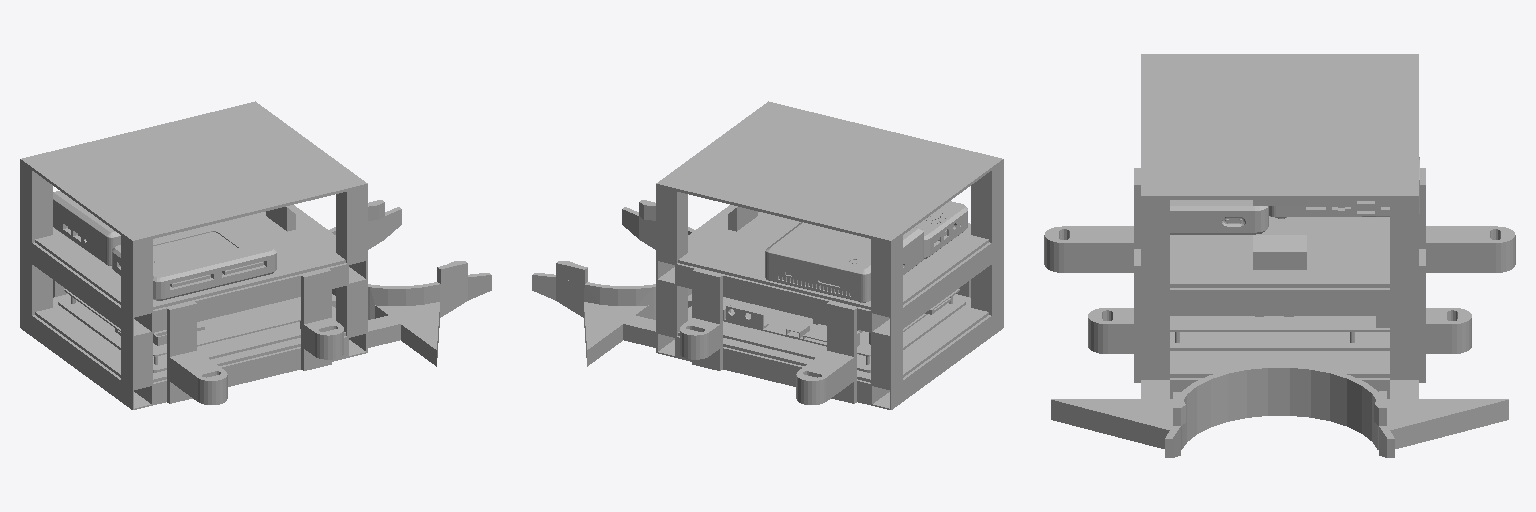
The robot description file, URDF, robot "lide":
<?xml version="1.0" encoding="utf-8"?>
<!-- This URDF was automatically created by SolidWorks to URDF Exporter! Originally created by [author] ([email redacted]) 
     Commit Version: 1.5.1-0-g916b5db  Build Version: 1.5.7152.31018
     For more information, please see http://wiki.ros.org/sw_urdf_exporter -->
<robot
  name="lide">
  <link
    name="base_link">
    <inertial>
      <origin
        xyz="-0.127081399874902 0.0848949775103112 0.0504012116184375"
        rpy="0 0 0" />
      <mass
        value="2.93234854916097" />
      <inertia
        ixx="0.00626578008089889"
        ixy="-9.62622079182327E-07"
        ixz="-2.52774583257753E-05"
        iyy="0.00556701344036708"
        iyz="-5.89340291403019E-07"
        izz="0.0111607875621423" />
    </inertial>
    <visual>
      <origin
        xyz="0 0 0"
        rpy="0 0 0" />
      <geometry>
        <mesh
          filename="package://lide/meshes/base_link.STL" />
      </geometry>
      <material
        name="">
        <color
          rgba="0.752941176470588 0.752941176470588 0.752941176470588 1" />
      </material>
    </visual>
    <collision>
      <origin
        xyz="0 0 0"
        rpy="0 0 0" />
      <geometry>
        <mesh
          filename="package://lide/meshes/base_link.STL" />
      </geometry>
    </collision>
  </link>
  <link
    name="LFS">
    <inertial>
      <origin
        xyz="0.0455604268709419 0.00830943309140332 0.00297622851896683"
        rpy="0 0 0" />
      <mass
        value="0.0727928435161985" />
      <inertia
        ixx="2.20927876796312E-05"
        ixy="-1.648453020563E-08"
        ixz="-1.56454773175219E-07"
        iyy="1.62632133784213E-05"
        iyz="2.96411876511229E-09"
        izz="1.80843397531752E-05" />
    </inertial>
    <visual>
      <origin
        xyz="0 0 0"
        rpy="0 0 0" />
      <geometry>
        <mesh
          filename="package://lide/meshes/LFS.STL" />
      </geometry>
      <material
        name="">
        <color
          rgba="0.752941176470588 0.752941176470588 0.752941176470588 1" />
      </material>
    </visual>
    <collision>
      <origin
        xyz="0 0 0"
        rpy="0 0 0" />
      <geometry>
        <mesh
          filename="package://lide/meshes/LFS.STL" />
      </geometry>
    </collision>
  </link>
  <joint
    name="LFS"
    type="fixed">
    <origin
      xyz="-0.059044 0.1674 -0.036503"
      rpy="1.5708 0 1.5708" />
    <parent
      link="base_link" />
    <child
      link="LFS" />
    <axis
      xyz="0 0 0" />
  </joint>
  <link
    name="LFW">
    <inertial>
      <origin
        xyz="0.015 -6.93889390390723E-18 0"
        rpy="0 0 0" />
      <mass
        value="0.767080911081153" />
      <inertia
        ixx="0.00116426102407189"
        ixy="-1.25105048588131E-22"
        ixz="-1.83311841364852E-20"
        iyy="0.000639661580367031"
        iyz="-6.7762635780344E-21"
        izz="0.000639661580367032" />
    </inertial>
    <visual>
      <origin
        xyz="0 0 0"
        rpy="0 0 0" />
      <geometry>
        <mesh
          filename="package://lide/meshes/LFW.STL" />
      </geometry>
      <material
        name="">
        <color
          rgba="0.898039215686275 0.917647058823529 0.929411764705882 1" />
      </material>
    </visual>
    <collision>
      <origin
        xyz="0 0 0"
        rpy="0 0 0" />
      <geometry>
        <mesh
          filename="package://lide/meshes/LFW.STL" />
      </geometry>
    </collision>
  </link>
  <joint
    name="LFW"
    type="continuous">
    <origin
      xyz="0.063346 -0.006798 0.015044"
      rpy="-1.6264 0 0" />
    <parent
      link="LFS" />
    <child
      link="LFW" />
    <axis
      xyz="1 0 0" />
    <limit
      effort="3.1"
      velocity="7" />
  </joint>
  <link
    name="RFS">
    <inertial>
      <origin
        xyz="-0.0191828308457407 -0.00900932874707057 0.0520056318885905"
        rpy="0 0 0" />
      <mass
        value="0.0727928435161986" />
      <inertia
        ixx="2.20927876796313E-05"
        ixy="-1.64845302056308E-08"
        ixz="1.56454773175212E-07"
        iyy="1.62632133784213E-05"
        iyz="-2.96411876510575E-09"
        izz="1.80843397531752E-05" />
    </inertial>
    <visual>
      <origin
        xyz="0 0 0"
        rpy="0 0 0" />
      <geometry>
        <mesh
          filename="package://lide/meshes/RFS.STL" />
      </geometry>
      <material
        name="">
        <color
          rgba="0.752941176470588 0.752941176470588 0.752941176470588 1" />
      </material>
    </visual>
    <collision>
      <origin
        xyz="0 0 0"
        rpy="0 0 0" />
      <geometry>
        <mesh
          filename="package://lide/meshes/RFS.STL" />
      </geometry>
    </collision>
  </link>
  <joint
    name="RFS"
    type="fixed">
    <origin
      xyz="-0.10807 -0.027781 -0.019216"
      rpy="1.5708 0 1.5708" />
    <parent
      link="base_link" />
    <child
      link="RFS" />
    <axis
      xyz="0 0 0" />
  </joint>
  <link
    name="RFW">
    <inertial>
      <origin
        xyz="-0.015 0 0"
        rpy="0 0 0" />
      <mass
        value="0.767080911081152" />
      <inertia
        ixx="0.00116426102407189"
        ixy="-4.9281223125782E-37"
        ixz="4.60638074444741E-39"
        iyy="0.000639661580367031"
        iyz="-5.25031148738029E-37"
        izz="0.000639661580367031" />
    </inertial>
    <visual>
      <origin
        xyz="0 0 0"
        rpy="0 0 0" />
      <geometry>
        <mesh
          filename="package://lide/meshes/RFW.STL" />
      </geometry>
      <material
        name="">
        <color
          rgba="0.898039215686275 0.917647058823529 0.929411764705882 1" />
      </material>
    </visual>
    <collision>
      <origin
        xyz="0 0 0"
        rpy="0 0 0" />
      <geometry>
        <mesh
          filename="package://lide/meshes/RFW.STL" />
      </geometry>
    </collision>
  </link>
  <joint
    name="RFW"
    type="continuous">
    <origin
      xyz="-0.036969 -0.024084 0.064073"
      rpy="0 0 0" />
    <parent
      link="RFS" />
    <child
      link="RFW" />
    <axis
      xyz="1 0 0" />
    <limit
      effort="3.1"
      velocity="7" />
  </joint>
  <link
    name="LBS">
    <inertial>
      <origin
        xyz="-4.79882522608222E-10 -0.023473389822872 -1.16815018769145E-09"
        rpy="0 0 0" />
      <mass
        value="0.0835358720814331" />
      <inertia
        ixx="7.72968060896302E-05"
        ixy="-8.60478095934615E-13"
        ixz="1.40586689563478E-13"
        iyy="5.13820931926884E-05"
        iyz="-5.06559896296284E-12"
        izz="7.73952626484255E-05" />
    </inertial>
    <visual>
      <origin
        xyz="0 0 0"
        rpy="0 0 0" />
      <geometry>
        <mesh
          filename="package://lide/meshes/LBS.STL" />
      </geometry>
      <material
        name="">
        <color
          rgba="0.898039215686275 0.917647058823529 0.929411764705882 1" />
      </material>
    </visual>
    <collision>
      <origin
        xyz="0 0 0"
        rpy="0 0 0" />
      <geometry>
        <mesh
          filename="package://lide/meshes/LBS.STL" />
      </geometry>
    </collision>
  </link>
  <joint
    name="LBS"
    type="fixed">
    <origin
      xyz="-0.202 0.24575 -0.012562"
      rpy="1.5708 0 1.5708" />
    <parent
      link="base_link" />
    <child
      link="LBS" />
    <axis
      xyz="0 0 0" />
  </joint>
  <link
    name="LBW">
    <inertial>
      <origin
        xyz="0 0 -2.77555756156289E-17"
        rpy="0 0 0" />
      <mass
        value="0.299097213540614" />
      <inertia
        ixx="0.000107128427988291"
        ixy="-7.7154576721694E-22"
        ixz="-6.56176679301773E-22"
        iyy="0.000109833959413418"
        iyz="-8.63231614238912E-20"
        izz="0.000107128427988291" />
    </inertial>
    <visual>
      <origin
        xyz="0 0 0"
        rpy="0 0 0" />
      <geometry>
        <mesh
          filename="package://lide/meshes/LBW.STL" />
      </geometry>
      <material
        name="">
        <color
          rgba="0.898039215686275 0.917647058823529 0.929411764705882 1" />
      </material>
    </visual>
    <collision>
      <origin
        xyz="0 0 0"
        rpy="0 0 0" />
      <geometry>
        <mesh
          filename="package://lide/meshes/LBW.STL" />
      </geometry>
    </collision>
  </link>
  <joint
    name="LBW"
    type="fixed">
    <origin
      xyz="0 -0.055738 0"
      rpy="3.1416 0 1.5708" />
    <parent
      link="LBS" />
    <child
      link="LBW" />
    <axis
      xyz="0 1 0" />
  </joint>
  <link
    name="RBS">
    <inertial>
      <origin
        xyz="-4.79882536486009E-10 -0.0234733898228721 -1.16815015993588E-09"
        rpy="0 0 0" />
      <mass
        value="0.0835358720814328" />
      <inertia
        ixx="7.72968060896302E-05"
        ixy="-8.60478108763694E-13"
        ixz="1.40586703370834E-13"
        iyy="5.13820931926882E-05"
        iyz="-5.06559895620794E-12"
        izz="7.73952626484254E-05" />
    </inertial>
    <visual>
      <origin
        xyz="0 0 0"
        rpy="0 0 0" />
      <geometry>
        <mesh
          filename="package://lide/meshes/RBS.STL" />
      </geometry>
      <material
        name="">
        <color
          rgba="0.898039215686275 0.917647058823529 0.929411764705882 1" />
      </material>
    </visual>
    <collision>
      <origin
        xyz="0 0 0"
        rpy="0 0 0" />
      <geometry>
        <mesh
          filename="package://lide/meshes/RBS.STL" />
      </geometry>
    </collision>
  </link>
  <joint
    name="RBS"
    type="fixed">
    <origin
      xyz="-0.202 -0.07975 -0.012562"
      rpy="1.5708 0 1.5708" />
    <parent
      link="base_link" />
    <child
      link="RBS" />
    <axis
      xyz="0 0 0" />
  </joint>
  <link
    name="RBW">
    <inertial>
      <origin
        xyz="-6.93889390390723E-18 -6.93889390390723E-18 0"
        rpy="0 0 0" />
      <mass
        value="0.299097213540614" />
      <inertia
        ixx="0.000107128427988291"
        ixy="1.42968110446033E-21"
        ixz="-2.66815378385127E-22"
        iyy="0.000109833959413418"
        iyz="-8.63398373850403E-20"
        izz="0.000107128427988291" />
    </inertial>
    <visual>
      <origin
        xyz="0 0 0"
        rpy="0 0 0" />
      <geometry>
        <mesh
          filename="package://lide/meshes/RBW.STL" />
      </geometry>
      <material
        name="">
        <color
          rgba="0.898039215686275 0.917647058823529 0.929411764705882 1" />
      </material>
    </visual>
    <collision>
      <origin
        xyz="0 0 0"
        rpy="0 0 0" />
      <geometry>
        <mesh
          filename="package://lide/meshes/RBW.STL" />
      </geometry>
    </collision>
  </link>
  <joint
    name="RBW"
    type="fixed">
    <origin
      xyz="0 -0.055738 0"
      rpy="0 0 -1.5708" />
    <parent
      link="RBS" />
    <child
      link="RBW" />
    <axis
      xyz="0 1 0" />
  </joint>
  <link
    name="fcam">
    <inertial>
      <origin
        xyz="-0.0115544746517359 -2.64429642850283E-06 0.00129029302682174"
        rpy="0 0 0" />
      <mass
        value="0.0436119957238952" />
      <inertia
        ixx="2.35707061906175E-05"
        ixy="-1.01842273865689E-09"
        ixz="2.17585832536658E-08"
        iyy="4.29479050056035E-06"
        iyz="-8.85018118759991E-10"
        izz="2.21058153511886E-05" />
    </inertial>
    <visual>
      <origin
        xyz="0 0 0"
        rpy="0 0 0" />
      <geometry>
        <mesh
          filename="package://lide/meshes/fcam.STL" />
      </geometry>
      <material
        name="">
        <color
          rgba="0.792156862745098 0.819607843137255 0.933333333333333 1" />
      </material>
    </visual>
    <collision>
      <origin
        xyz="0 0 0"
        rpy="0 0 0" />
      <geometry>
        <mesh
          filename="package://lide/meshes/fcam.STL" />
      </geometry>
    </collision>
  </link>
  <joint
    name="fcam"
    type="fixed">
    <origin
      xyz="-0.0038823 0.083 0.12982"
      rpy="0 0.2618 0" />
    <parent
      link="base_link" />
    <child
      link="fcam" />
    <axis
      xyz="0 0 0" />
  </joint>
  <link
    name="bcam">
    <inertial>
      <origin
        xyz="-0.02010346452991 -2.64354903288522E-06 -0.00725869505663598"
        rpy="0 0 0" />
      <mass
        value="0.0436119949785286" />
      <inertia
        ixx="2.35707056099601E-05"
        ixy="-1.01834758005617E-09"
        ixz="2.17579332532698E-08"
        iyy="4.29479078276665E-06"
        iyz="-8.85484503962142E-10"
        izz="2.21058144654638E-05" />
    </inertial>
    <visual>
      <origin
        xyz="0 0 0"
        rpy="0 0 0" />
      <geometry>
        <mesh
          filename="package://lide/meshes/bcam.STL" />
      </geometry>
      <material
        name="">
        <color
          rgba="0.792156862745098 0.819607843137255 0.933333333333333 1" />
      </material>
    </visual>
    <collision>
      <origin
        xyz="0 0 0"
        rpy="0 0 0" />
      <geometry>
        <mesh
          filename="package://lide/meshes/bcam.STL" />
      </geometry>
    </collision>
  </link>
  <joint
    name="bcam"
    type="fixed">
    <origin
      xyz="0 0.083 0.091232"
      rpy="0 0.7854 0" />
    <parent
      link="base_link" />
    <child
      link="bcam" />
    <axis
      xyz="0 0 0" />
  </joint>
  <link
    name="Lidar">
    <inertial>
      <origin
        xyz="0.0135233595897215 0.000461955980230383 -0.0287648854952087"
        rpy="0 0 0" />
      <mass
        value="0.0730845717509052" />
      <inertia
        ixx="1.95808757381404E-05"
        ixy="-1.03933586285386E-07"
        ixz="-4.28391168535083E-07"
        iyy="2.41250079664705E-05"
        iyz="9.42710322119355E-09"
        izz="4.14184516335429E-05" />
    </inertial>
    <visual>
      <origin
        xyz="0 0 0"
        rpy="0 0 0" />
      <geometry>
        <mesh
          filename="package://lide/meshes/Lidar.STL" />
      </geometry>
      <material
        name="">
        <color
          rgba="0.792156862745098 0.819607843137255 0.933333333333333 1" />
      </material>
    </visual>
    <collision>
      <origin
        xyz="0 0 0"
        rpy="0 0 0" />
      <geometry>
        <mesh
          filename="package://lide/meshes/Lidar.STL" />
      </geometry>
    </collision>
  </link>
  <joint
    name="Lidar"
    type="fixed">
    <origin
      xyz="-0.19458 0.082006 0.2065"
      rpy="0 0 0" />
    <parent
      link="base_link" />
    <child
      link="Lidar" />
    <axis
      xyz="0 0 0" />
  </joint>
  <link
    name="imu_link">
    <inertial>
      <origin
        xyz="0.00385022026093959 6.23984008056022E-05 -0.00103377575234337"
        rpy="0 0 0" />
      <mass
        value="0.00189180567975737" />
      <inertia
        ixx="7.79431263454135E-08"
        ixy="1.39214190556515E-10"
        ixz="1.54511633252899E-11"
        iyy="4.85473464623125E-08"
        iyz="-6.30099051334897E-11"
        izz="1.25233585370532E-07" />
    </inertial>
    <visual>
      <origin
        xyz="0 0 0"
        rpy="0 0 0" />
      <geometry>
        <mesh
          filename="package://lide/meshes/imu_link.STL" />
      </geometry>
      <material
        name="">
        <color
          rgba="0.898039215686275 0.917647058823529 0.929411764705882 1" />
      </material>
    </visual>
    <collision>
      <origin
        xyz="0 0 0"
        rpy="0 0 0" />
      <geometry>
        <mesh
          filename="package://lide/meshes/imu_link.STL" />
      </geometry>
    </collision>
  </link>
  <joint
    name="imu_link"
    type="fixed">
    <origin
      xyz="-0.044 0.083 0.155"
      rpy="0 0 0" />
    <parent
      link="base_link" />
    <child
      link="imu_link" />
    <axis
      xyz="0 0 0" />
  </joint>
</robot>

--- Facts derived from the render (not from the file) ---
The picture shows the robot from 3 angles, left to right: view 1: azimuth 30°, elevation 25°; view 2: azimuth 150°, elevation 25°; view 3: azimuth 270°, elevation 25°; orthographic projection.
Model lide with 13 links and 12 joints (2 continuous, 10 fixed), rooted at base_link, posed every joint at zero.
Links seen in each view (by area): view 1: base_link; view 2: base_link; view 3: base_link.
Boxes of the visible links, <box> form: base_link: <box>20,101,491,409</box>; base_link: <box>532,101,1003,409</box>; base_link: <box>1044,54,1515,457</box>.
Size in the robot's own frame: 0.398 by 0.3555 by 0.175 metres.
Meshes: 13 distinct files referenced, 1 mesh visuals loaded (1 binary STL); not drawn: 12 (reference not matched to a file when rendering).